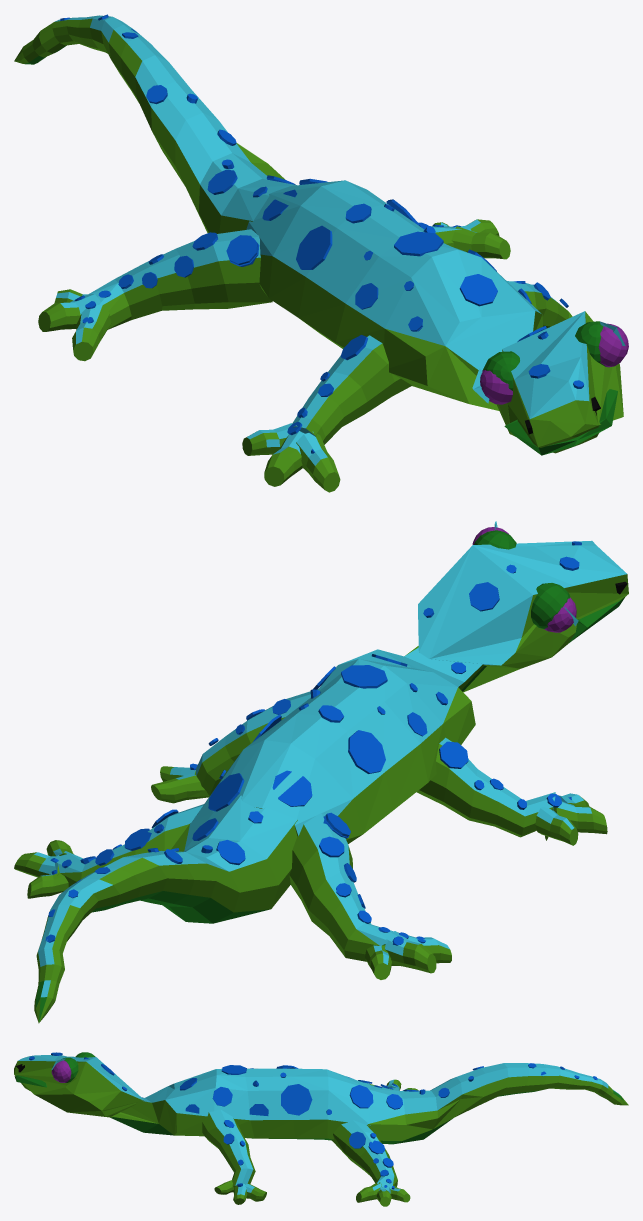
Rendered from 17_iguana.obj.
3 renders of one model, top to bottom at view 1: azimuth 30°, elevation 25°; view 2: azimuth 150°, elevation 25°; view 3: azimuth 270°, elevation 25°, orthographic. The views are drawn at different scales.
Visible parts, largest first — view 1: group1754880393, group1022293, group1377573034, group1296609596, group1845554438, group711366411, group2129086338, group1296965314, group479573331, group647629294, group1239171362, group1582375093 (+9 smaller); view 2: group1754880393, group1022293, group1377573034, group1296609596, group1845554438, group259872410, group366480076, group1239171362, group1582375093, group445268437, group479573331, group2079913489 (+7 smaller); view 3: group1754880393, group1022293, group1377573034, group259872410, group366480076, group213631755, group579269495, group521616420, group647629294, group1838117857, group506718119, group55107064 (+1 smaller).
Part boxes in pixels (x1=…): group1754880393: x1=246, y1=180, x2=542, y2=410; group1022293: x1=14, y1=15, x2=296, y2=233; group1377573034: x1=496, y1=311, x2=623, y2=453; group1296609596: x1=89, y1=229, x2=272, y2=329; group1845554438: x1=292, y1=335, x2=411, y2=444; group711366411: x1=296, y1=431, x2=340, y2=492; group2129086338: x1=72, y1=304, x2=111, y2=361; group1296965314: x1=504, y1=389, x2=617, y2=455; group479573331: x1=264, y1=431, x2=304, y2=486; group647629294: x1=451, y1=226, x2=510, y2=259; group1239171362: x1=38, y1=294, x2=100, y2=331; group1582375093: x1=296, y1=225, x2=332, y2=269; group1754880393: x1=191, y1=646, x2=486, y2=843; group1022293: x1=34, y1=795, x2=297, y2=1023; group1377573034: x1=418, y1=540, x2=628, y2=692; group1296609596: x1=289, y1=813, x2=392, y2=961; group1845554438: x1=416, y1=737, x2=555, y2=840; group259872410: x1=151, y1=689, x2=318, y2=803; group366480076: x1=54, y1=804, x2=203, y2=886; group1239171362: x1=385, y1=931, x2=436, y2=973; group1582375093: x1=348, y1=730, x2=385, y2=773; group445268437: x1=531, y1=583, x2=570, y2=628; group479573331: x1=553, y1=801, x2=607, y2=834; group2079913489: x1=535, y1=806, x2=578, y2=845; group1754880393: x1=110, y1=1068, x2=370, y2=1140; group1022293: x1=367, y1=1063, x2=628, y2=1144; group1377573034: x1=14, y1=1055, x2=143, y2=1117; group259872410: x1=202, y1=1109, x2=266, y2=1204; group366480076: x1=331, y1=1120, x2=397, y2=1187; group213631755: x1=281, y1=1084, x2=312, y2=1115; group579269495: x1=349, y1=1085, x2=373, y2=1108; group521616420: x1=51, y1=1060, x2=71, y2=1082; group647629294: x1=356, y1=1182, x2=381, y2=1202; group1838117857: x1=212, y1=1087, x2=232, y2=1106; group506718119: x1=376, y1=1185, x2=391, y2=1206; group55107064: x1=389, y1=1185, x2=410, y2=1202.
Bounding box in the file's own units: 0.9291 × 0.3884 × 2.1.
